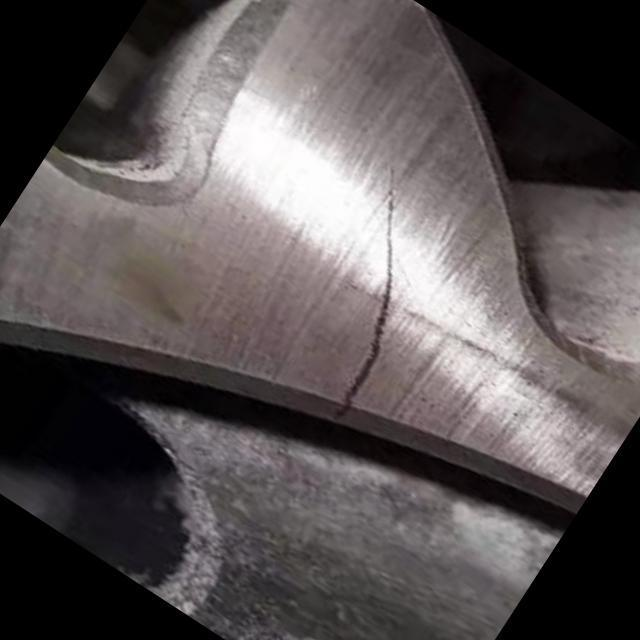defect: (327, 152, 409, 422)
